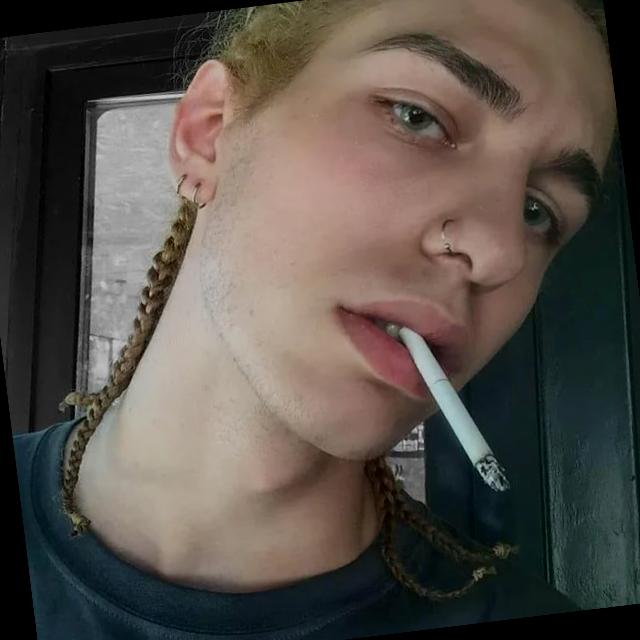cigarette: (397, 310, 514, 507)
